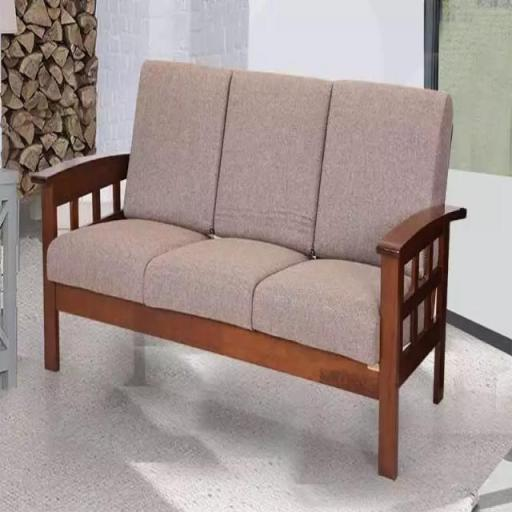sofa: (32, 31, 494, 485)
